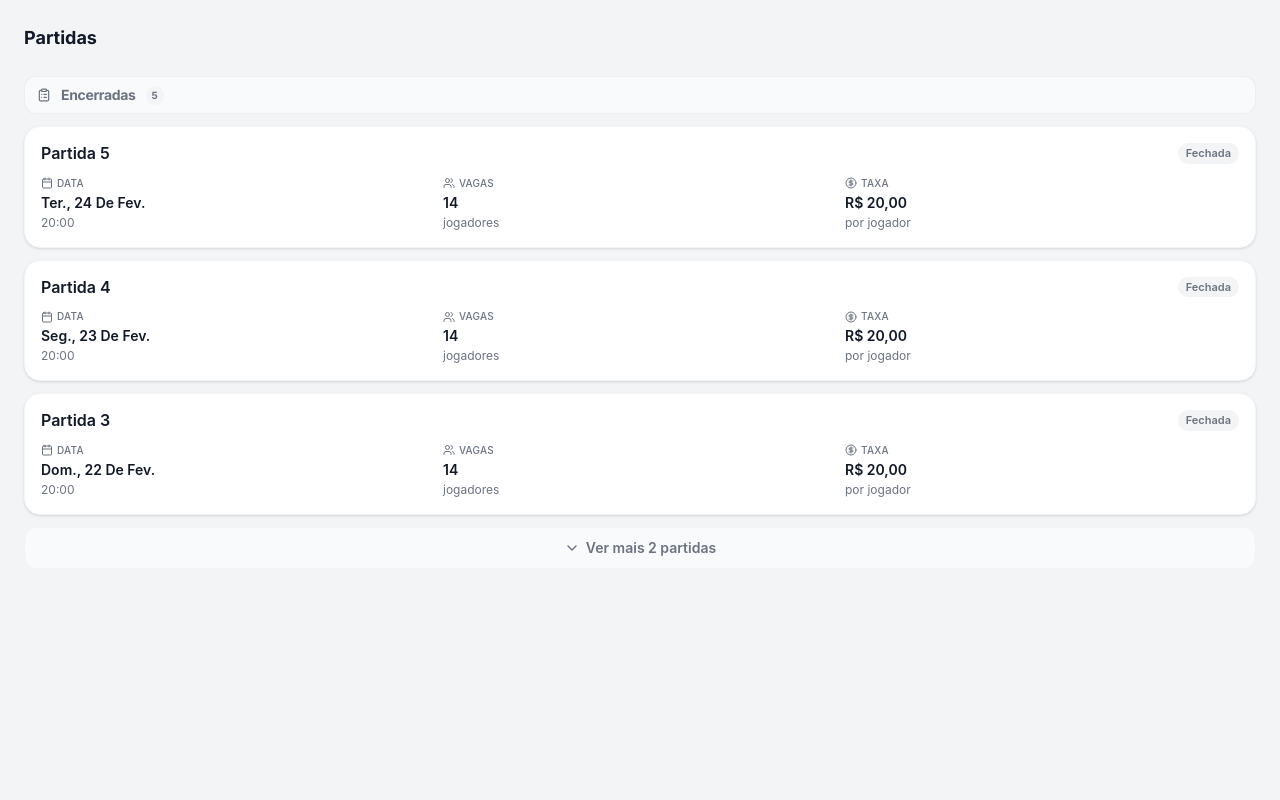
Test: Home Component › expands past matches when "Ver mais" is clicked
The width and height of the screenshot is (1280, 800).
Click the button "Ver mais 2 partidas" at (640, 548), box [24, 526, 1256, 568]
(page scrolled)
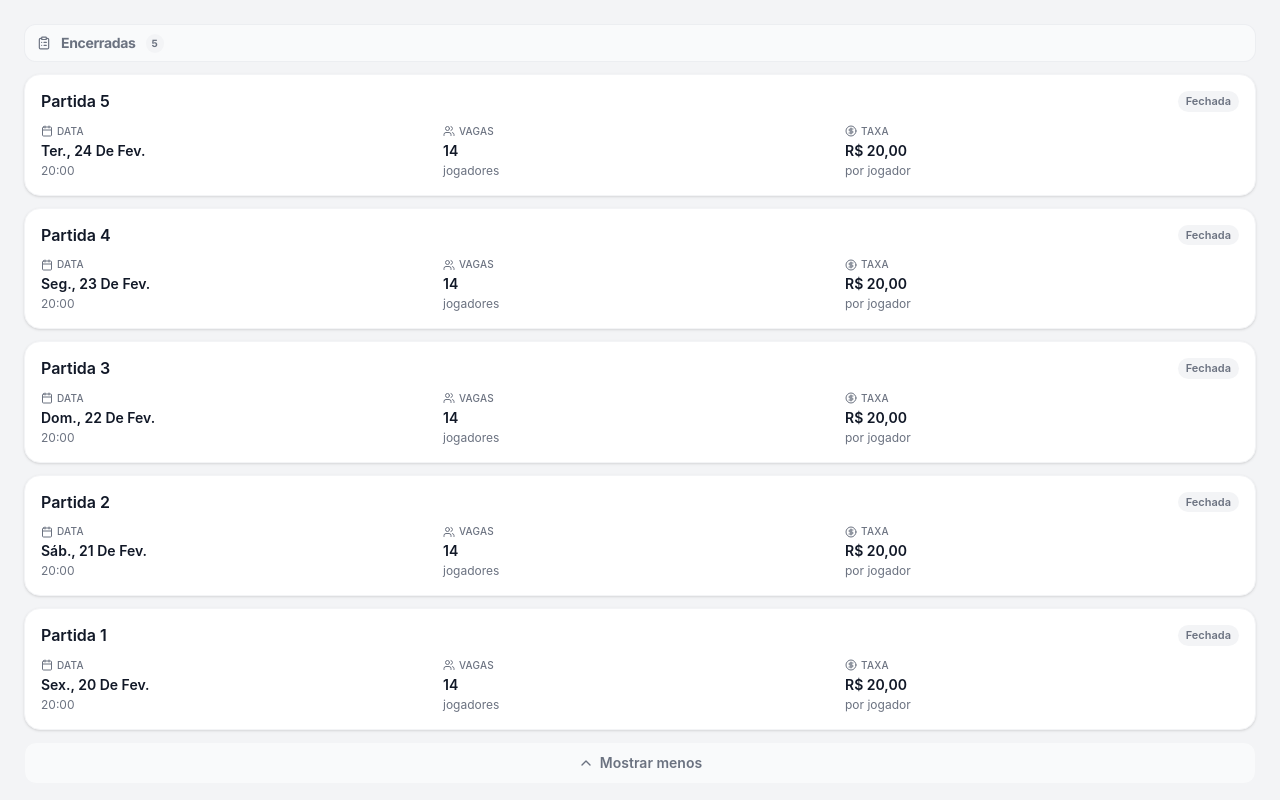
Expected: the heading "Partida 1" is shown, [41, 625, 107, 645]
Expected: the heading "Partida 2" is shown, [41, 492, 110, 512]
Expected: the button "Mostrar menos" is shown, [24, 742, 1256, 784]
